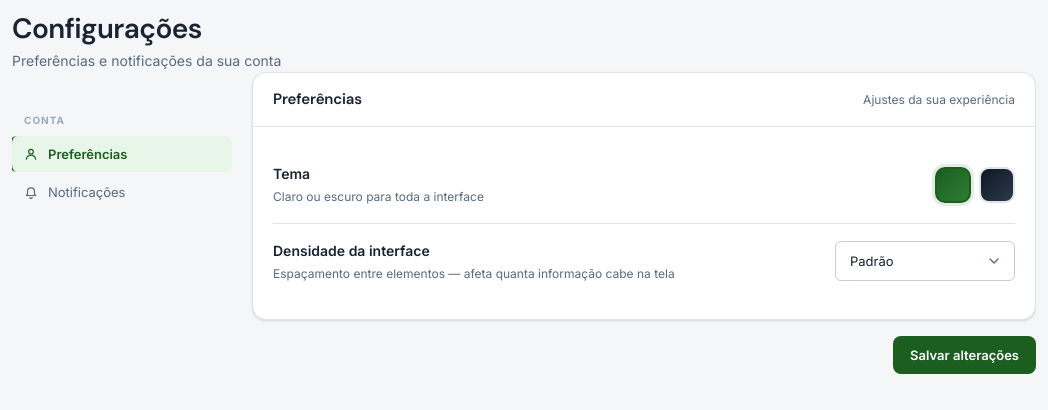
Scenario: Configuracoes › salva as preferências e aplica o tema imediatamente
The image size is (1048, 410).
Expected: the text "Densidade da interface" is shown, [273,242,430,259]
Select "Compacto" in the dropdown at (925, 261), box [835,241,1015,281]
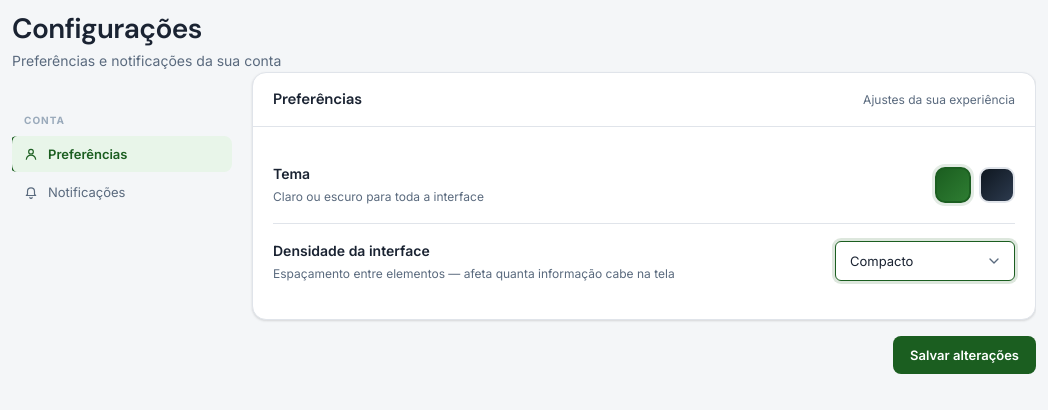
Click the button "Salvar alterações" at (965, 355), box [893,336,1036,374]
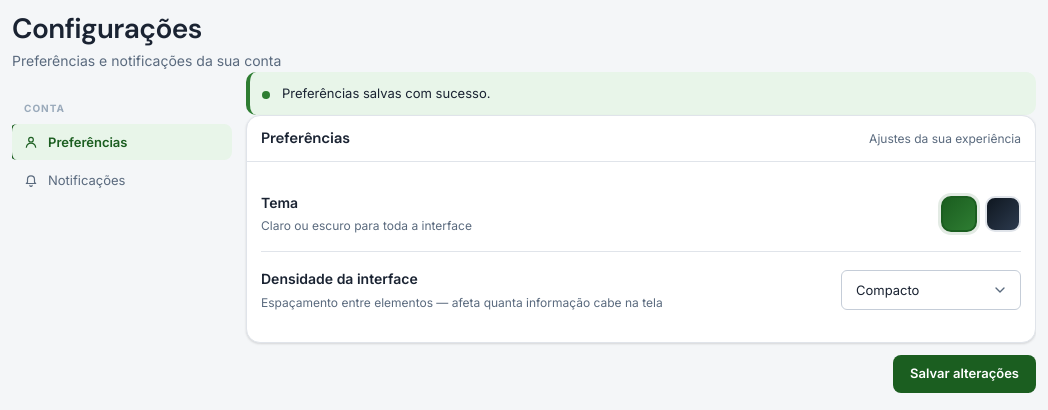
Expected: the text "Preferências salvas com sucesso." is shown, [282,85,490,101]
